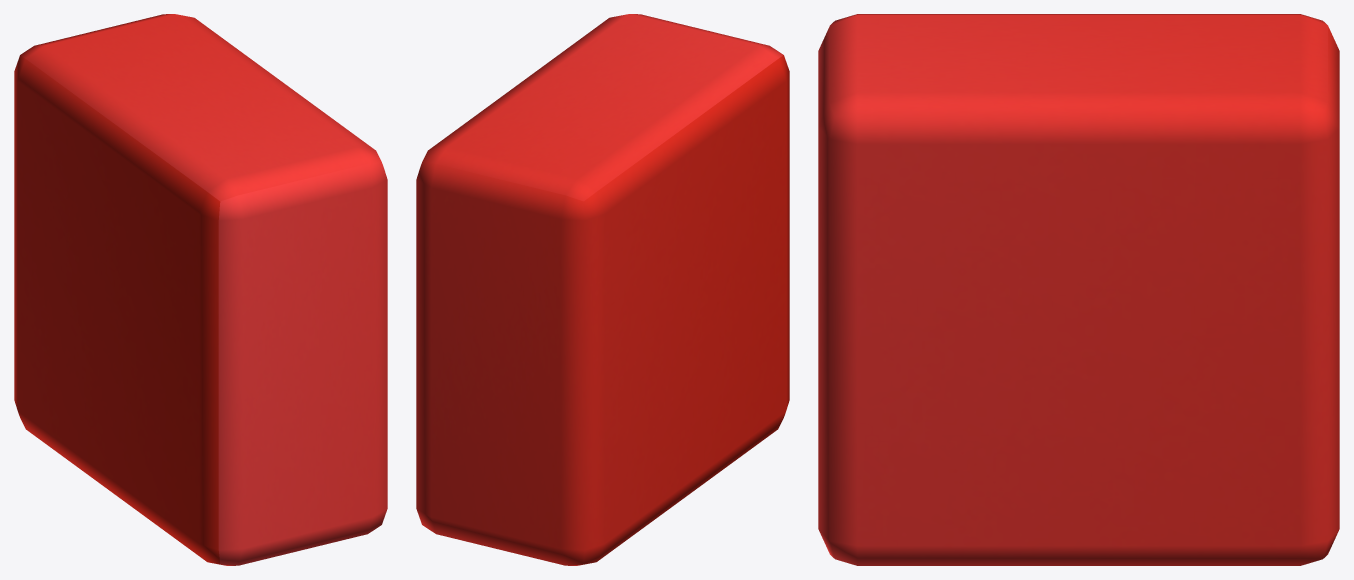
The model's file is BlockSlabRed.fbx.
The picture shows the model from 3 angles, left to right: view 1: azimuth 30°, elevation 25°; view 2: azimuth 150°, elevation 25°; view 3: azimuth 270°, elevation 25°; orthographic projection. The views are drawn at different scales.
Parts seen in each view (by area): view 1: Cube.001; view 2: Cube.001; view 3: Cube.001.
Boxes of the visible parts, bbox=[...] form: Cube.001: bbox=[14, 14, 387, 565]; Cube.001: bbox=[416, 14, 789, 565]; Cube.001: bbox=[818, 14, 1339, 565].
Size of the model in its own units: 100 by 200 by 200.
